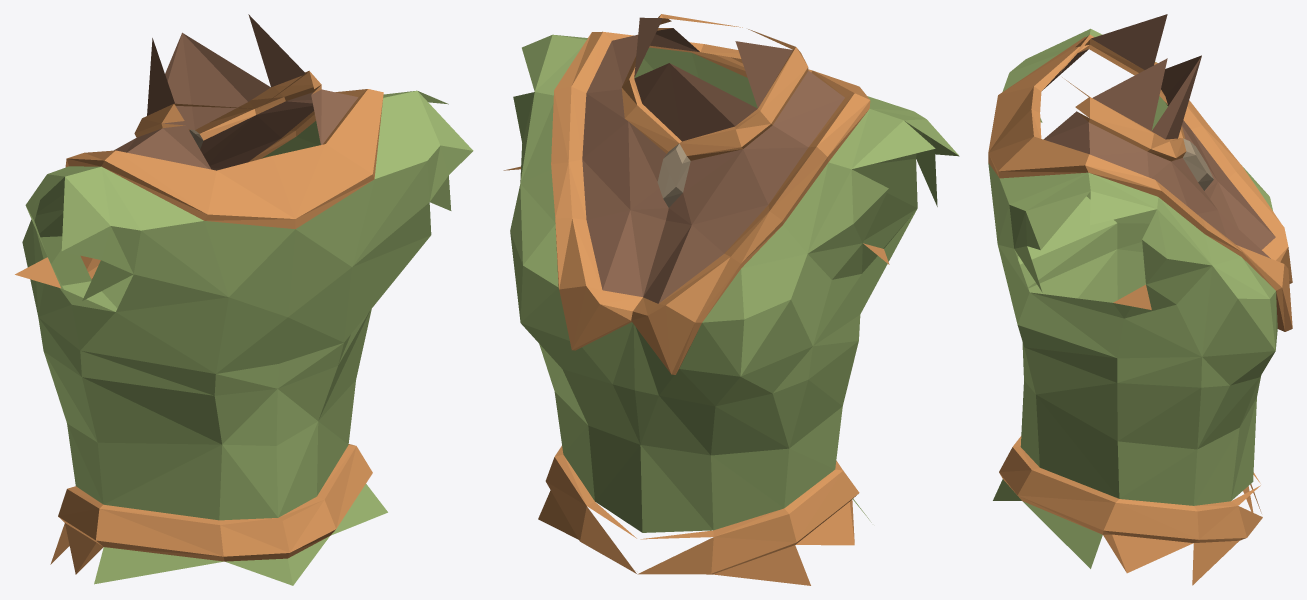
Rendered from Mother_01_Torso_0_03_C.obj.
The picture shows the model from 3 angles, left to right: view 1: azimuth 30°, elevation 25°; view 2: azimuth 150°, elevation 25°; view 3: azimuth 270°, elevation 25°; orthographic projection. The views are drawn at different scales.
Parts seen in each view (by area): view 1: Mother_01_Torso_0_03_C; view 2: Mother_01_Torso_0_03_C; view 3: Mother_01_Torso_0_03_C.
Part boxes in pixels (x1,y1,x2,y2): Mother_01_Torso_0_03_C: (15, 14, 473, 585); Mother_01_Torso_0_03_C: (503, 14, 959, 585); Mother_01_Torso_0_03_C: (988, 14, 1292, 585).
Bounding box in the file's own units: 0.4676 × 0.5543 × 0.3142.
1 material, 1 textured.
